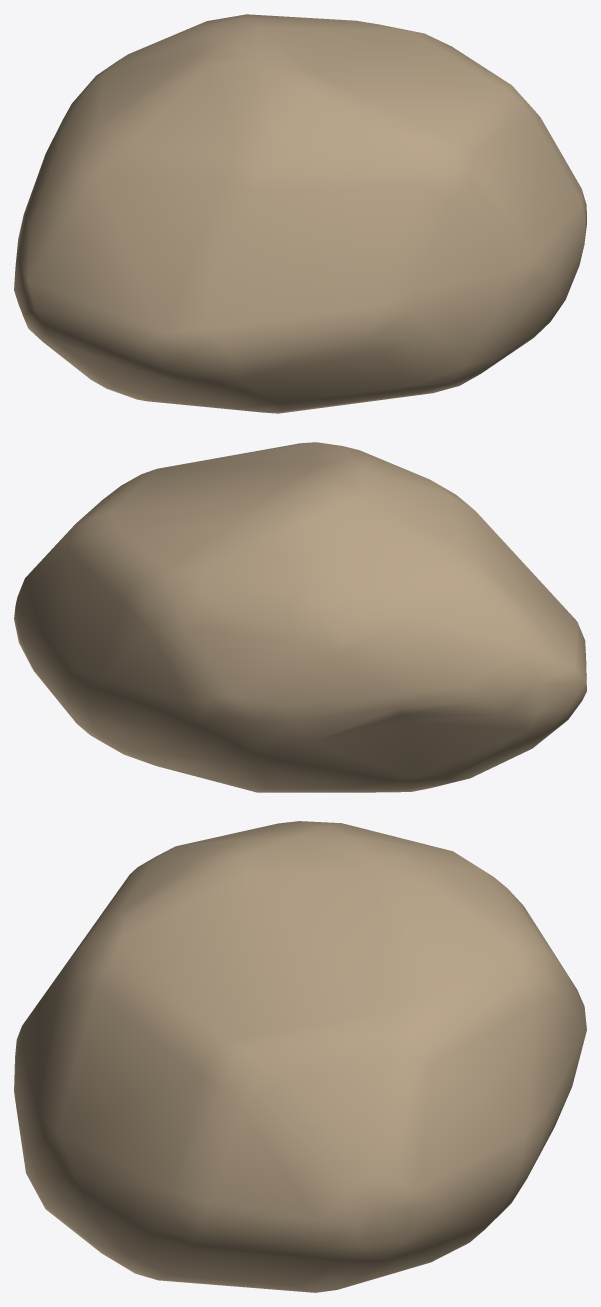
Rendered from Rock_01_Pebble_LOD0.fbx.
3 renders of one model, top to bottom at view 1: azimuth 30°, elevation 25°; view 2: azimuth 150°, elevation 25°; view 3: azimuth 270°, elevation 25°, orthographic. The views are drawn at different scales.
Visible parts, largest first — view 1: Rock_01_Pebble_LOD1_Mesh; view 2: Rock_01_Pebble_LOD1_Mesh; view 3: Rock_01_Pebble_LOD1_Mesh.
Boxes of the visible parts, x1=… form: Rock_01_Pebble_LOD1_Mesh: x1=14, y1=14, x2=586, y2=413; Rock_01_Pebble_LOD1_Mesh: x1=14, y1=442, x2=586, y2=792; Rock_01_Pebble_LOD1_Mesh: x1=14, y1=821, x2=586, y2=1292.
Size of the model in its own units: 0.736 by 0.3554 by 0.5793.
